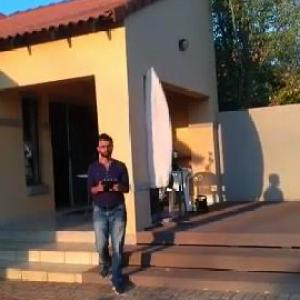follow: (85, 129, 134, 295)
